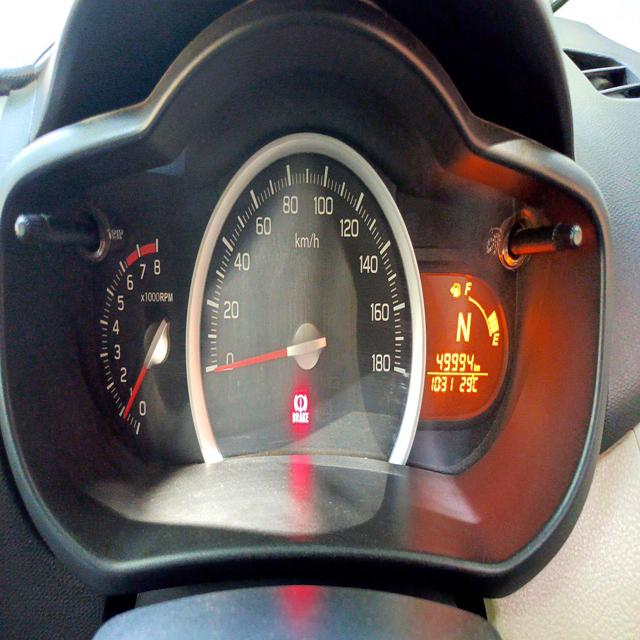odometer: (434, 348, 475, 373)
